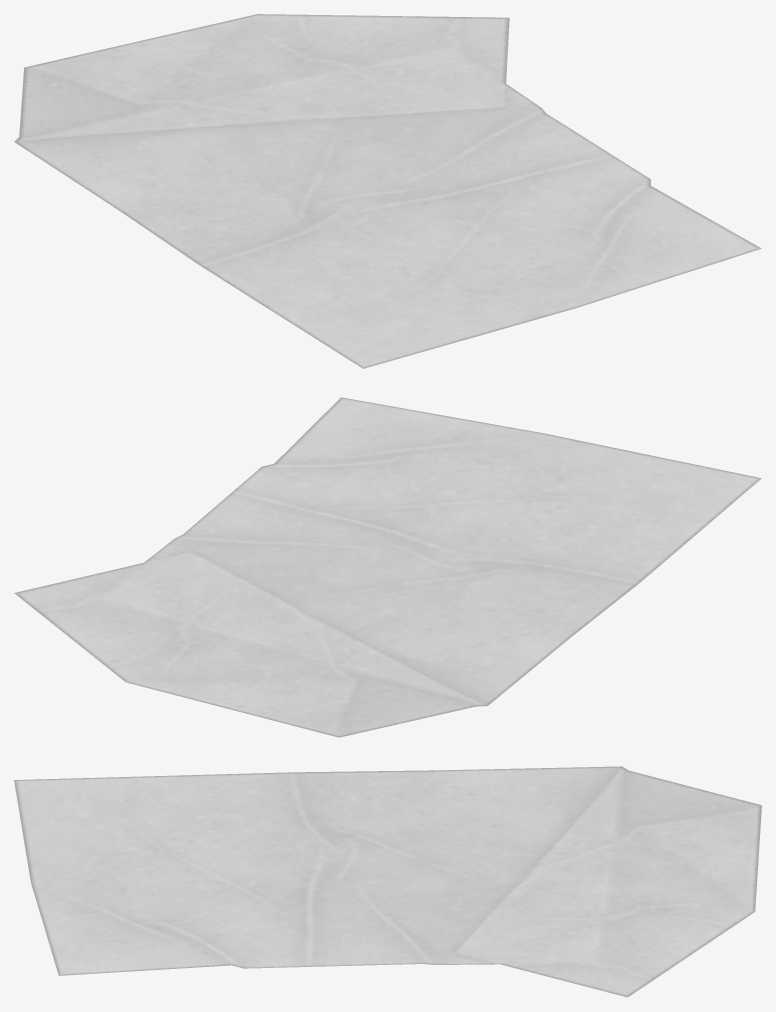
The model's file is Pfb_Canvas_Ground_2x4__2.fbx.
3 views of the same model, one above another, from view 1: azimuth 30°, elevation 25°; view 2: azimuth 150°, elevation 25°; view 3: azimuth 270°, elevation 25° (orthographic). The views are drawn at different scales.
Visible parts, largest first — view 1: Mat_Canvas_Ground_Dark; view 2: Mat_Canvas_Ground_Dark; view 3: Mat_Canvas_Ground_Dark.
Boxes of the visible parts, box(x1,y1,x2,y2) form: Mat_Canvas_Ground_Dark: box(14, 14, 761, 368); Mat_Canvas_Ground_Dark: box(14, 397, 761, 737); Mat_Canvas_Ground_Dark: box(14, 766, 761, 997).
Size of the model in its own units: 2.36 by 0.00538 by 3.23.
Materials: 1 (1 with a texture image).
